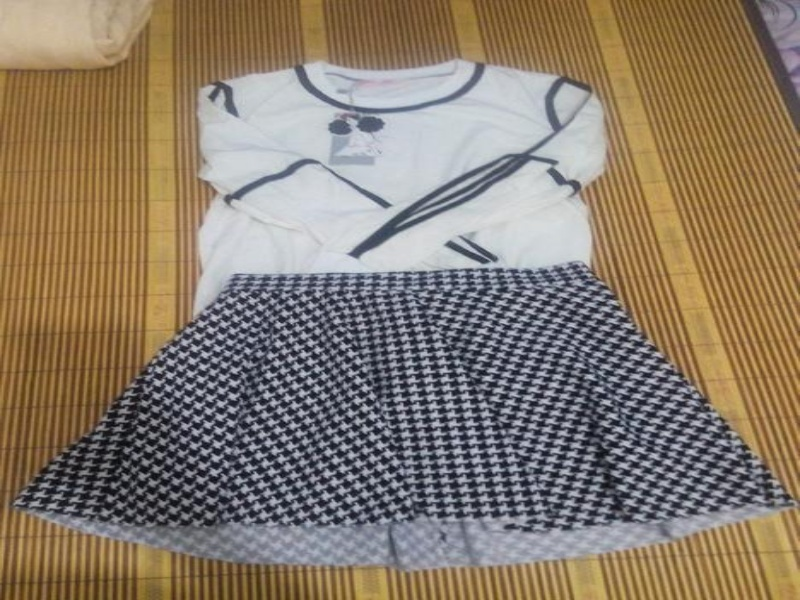long_sleeved_shirt: (185, 60, 615, 340)
skirt: (0, 260, 798, 569)
